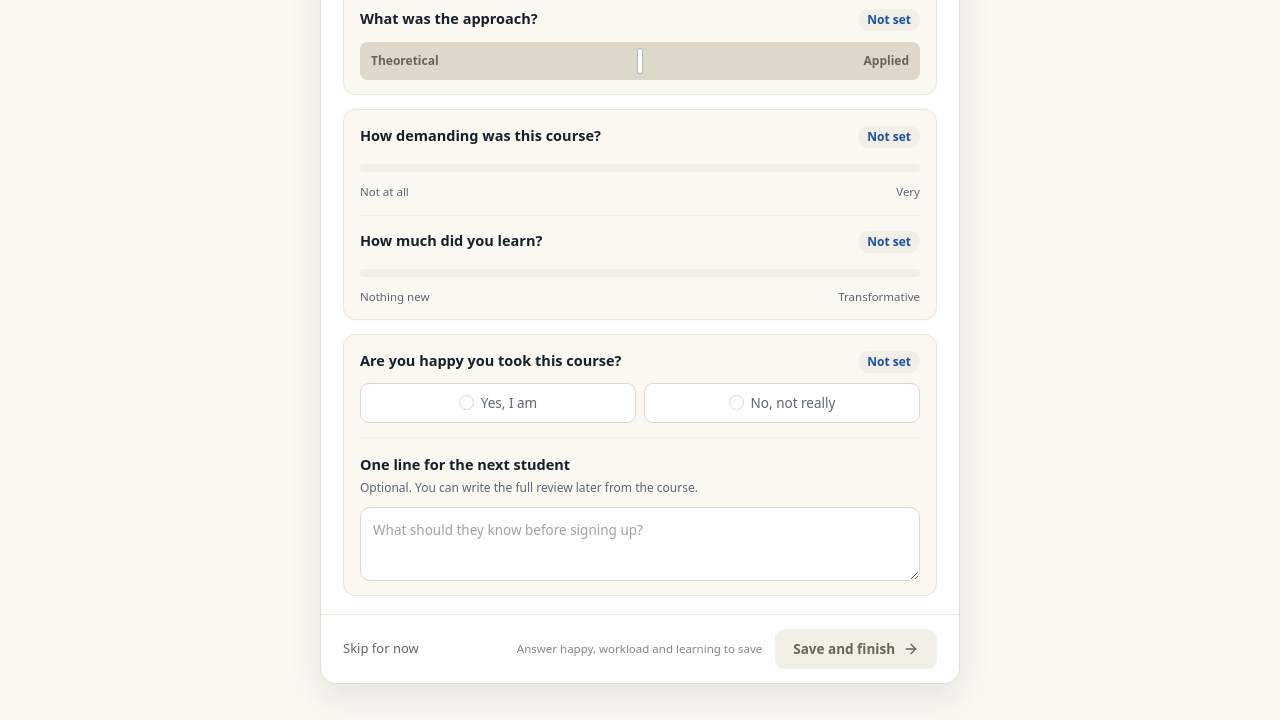
Test: a round a reload interrupted › counts only the courses this round is dealing
(page scrolled)
Click the button "Skip for now": x=381, y=649 left=343, top=639, right=419, bottom=658
(page scrolled)
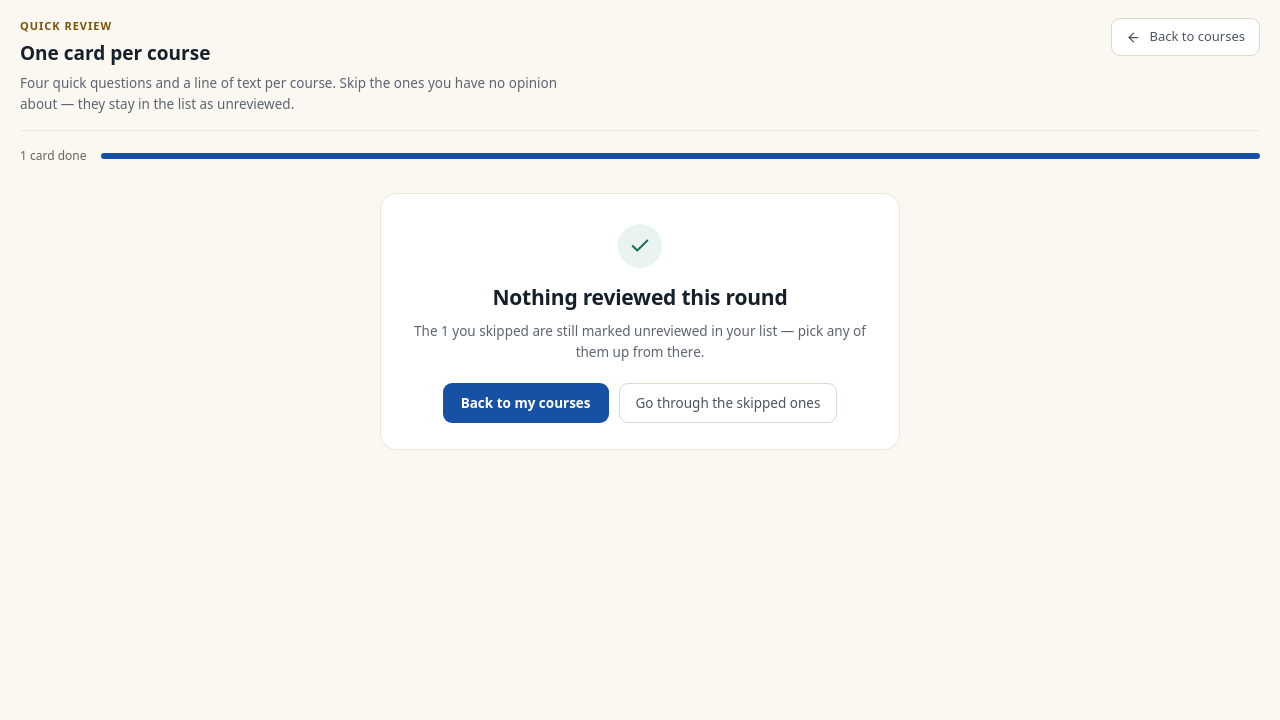
Expected: the heading "Nothing reviewed this round" is shown, left=492, top=283, right=788, bottom=311
Expected: the text "The 1 you skipped are still marked unreviewed in your list — pick any of them up from there." is shown, left=414, top=322, right=866, bottom=361
